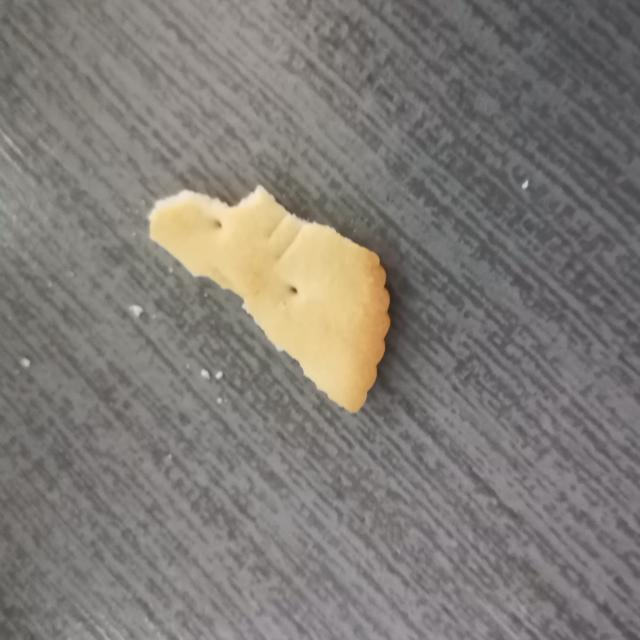Broken: (146, 183, 391, 413)
